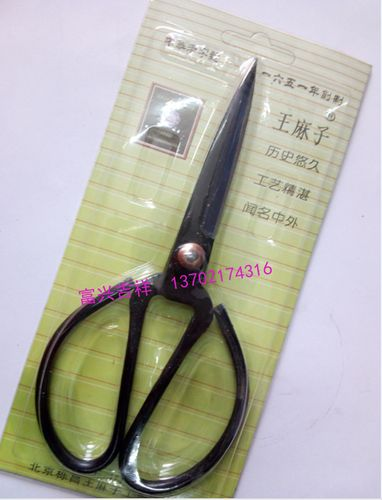scissor: (34, 59, 259, 497)
